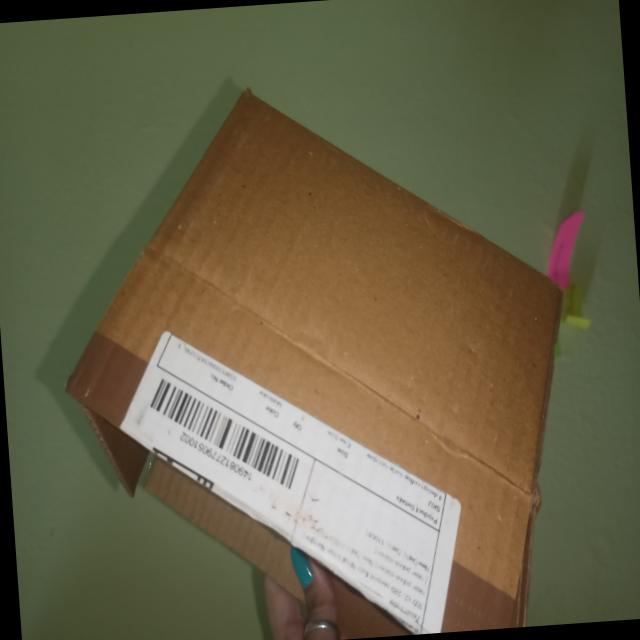cardboard_box: (12, 16, 598, 640)
